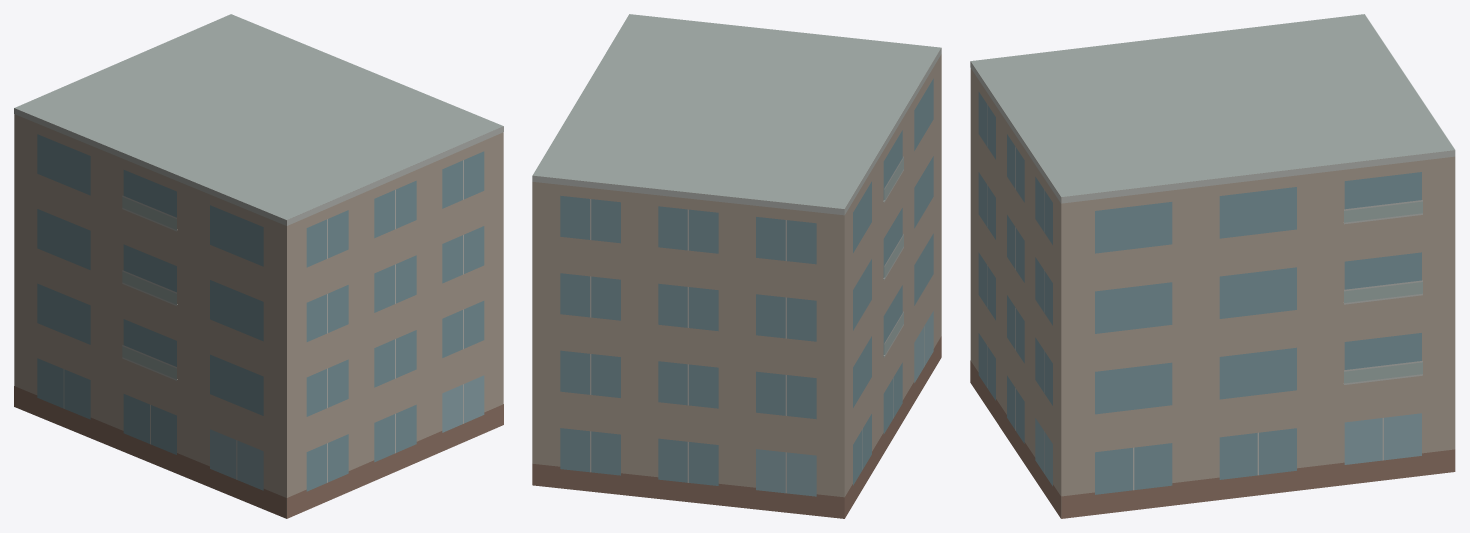
The model's file is residential-82b1a621-747f-459d-a5b1-e3831b0450e1.glb.
3 views of the same model, side by side, from view 1: azimuth 30°, elevation 25°; view 2: azimuth 150°, elevation 25°; view 3: azimuth 270°, elevation 25° (orthographic). The views are drawn at different scales.
Visible parts, largest first — view 1: residential-82b1a621-747f-459d-a5b1-e3831b0450e1.tmp; view 2: residential-82b1a621-747f-459d-a5b1-e3831b0450e1.tmp; view 3: residential-82b1a621-747f-459d-a5b1-e3831b0450e1.tmp.
Boxes of the visible parts, <box> form: residential-82b1a621-747f-459d-a5b1-e3831b0450e1.tmp: <box>14,14,503,518</box>; residential-82b1a621-747f-459d-a5b1-e3831b0450e1.tmp: <box>532,14,941,518</box>; residential-82b1a621-747f-459d-a5b1-e3831b0450e1.tmp: <box>970,14,1455,518</box>.
Size of the model in its own units: 14.91 by 12.2 by 16.68.
